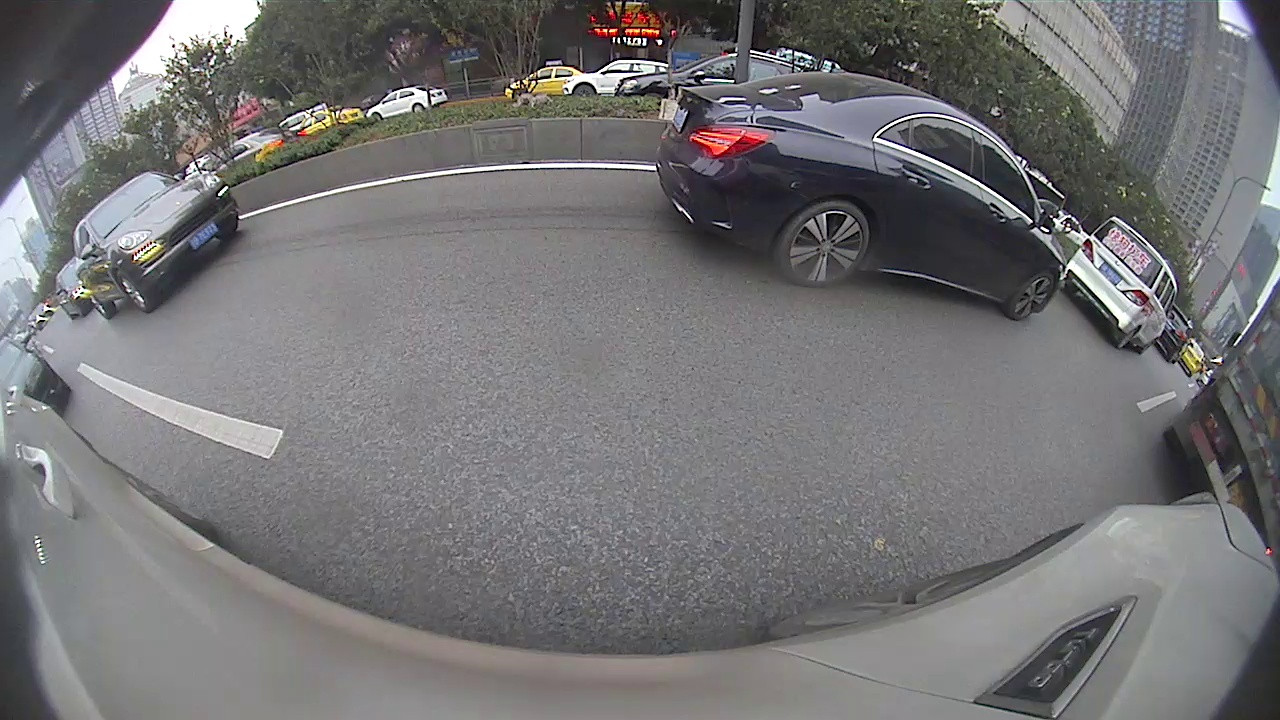car: (1, 296, 190, 471), (672, 137, 793, 216), (403, 155, 524, 228), (574, 140, 643, 202), (521, 152, 572, 195)
front: (78, 348, 162, 441)
person: (917, 148, 937, 193)
rear: (687, 176, 704, 210), (478, 192, 493, 217)
